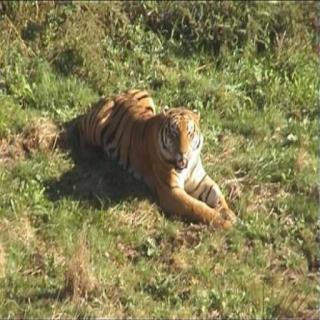Tiger: (57, 71, 234, 236)
